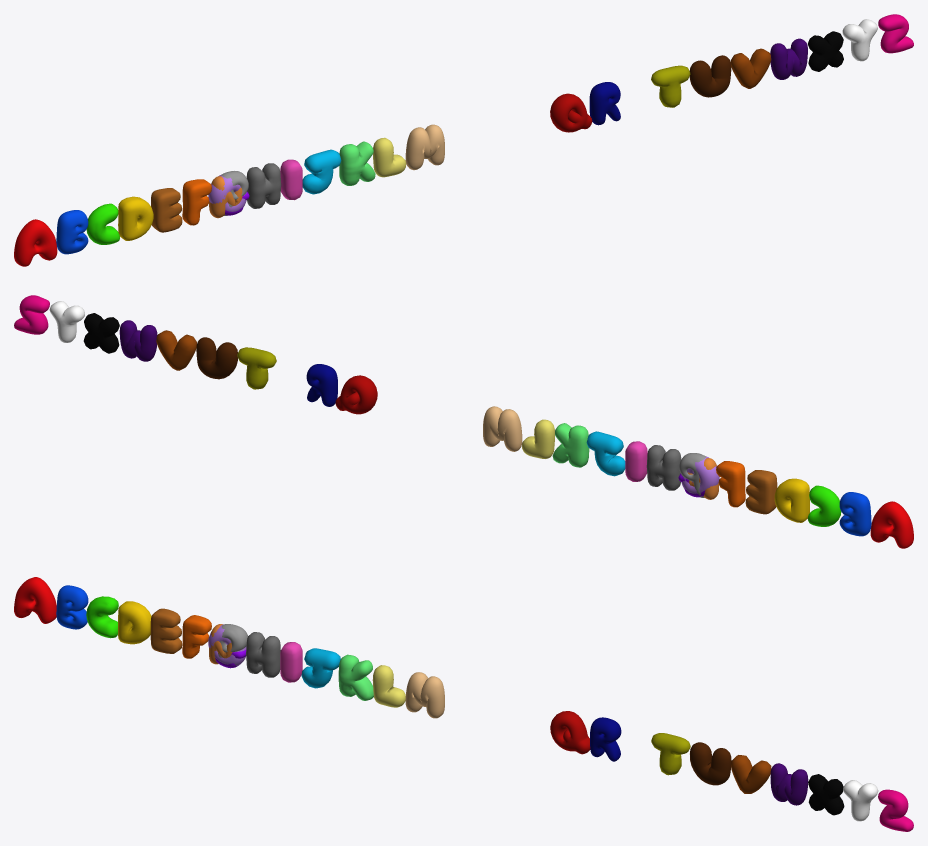
The picture shows the model from 3 angles, top to bottom: view 1: azimuth 30°, elevation 25°; view 2: azimuth 150°, elevation 25°; view 3: azimuth 330°, elevation 25°; orthographic projection.
Parts seen in each view (by area): view 1: A_0, M_12, U_20, H_4, D_5, K_10, Q_16, W_22, B_1, J_9, E_3, X_23 (+11 smaller); view 2: A_0, M_12, U_20, H_4, D_5, K_10, Q_16, W_22, B_1, J_9, E_3, X_23 (+11 smaller); view 3: A_0, M_12, U_20, H_4, K_10, Q_16, D_5, E_3, W_22, B_1, J_9, X_23 (+10 smaller).
Part boxes in pixels (x1,y1,x2,y2): A_0: (14,219,57,266); M_12: (405,124,444,170); U_20: (689,55,731,97); H_4: (246,163,281,208); D_5: (118,196,153,240); K_10: (339,141,375,185); Q_16: (550,93,592,132); W_22: (770,38,807,79); B_1: (56,210,88,254); J_9: (302,149,341,194); E_3: (151,188,182,232); X_23: (808,31,843,71); A_0: (870,501,913,548); M_12: (483,406,522,451); U_20: (196,337,237,379); H_4: (646,445,681,490); D_5: (774,478,809,522); K_10: (552,423,589,467); Q_16: (335,375,377,414); W_22: (119,320,157,361); B_1: (839,492,871,536); J_9: (586,431,625,476); E_3: (745,470,777,514); X_23: (83,313,119,353); A_0: (14,577,56,623); M_12: (405,672,444,718); U_20: (690,742,731,785); H_4: (246,632,280,677); K_10: (338,654,373,700); Q_16: (550,711,590,754); D_5: (118,601,151,644); E_3: (150,608,182,653); W_22: (770,763,808,805); B_1: (56,585,88,629); J_9: (301,648,340,688); X_23: (808,774,844,815).
Size of the model in its own units: 23.11 by 1.03 by 0.5393.
